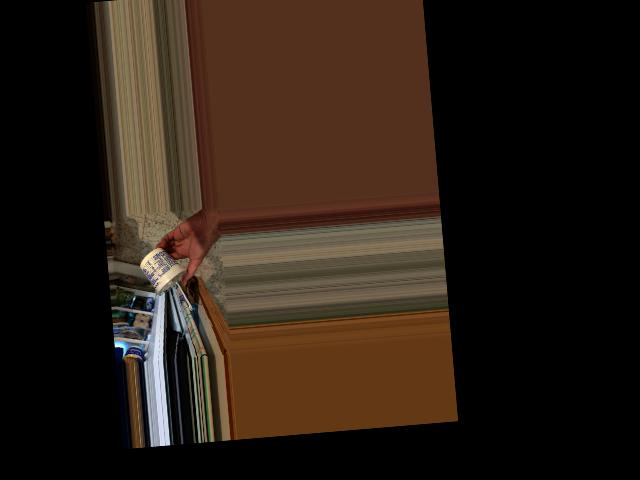cotage: (137, 244, 187, 298)
